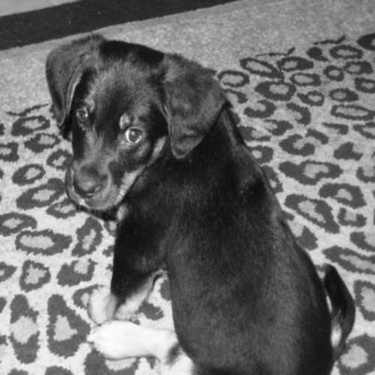dog: (34, 21, 359, 373)
